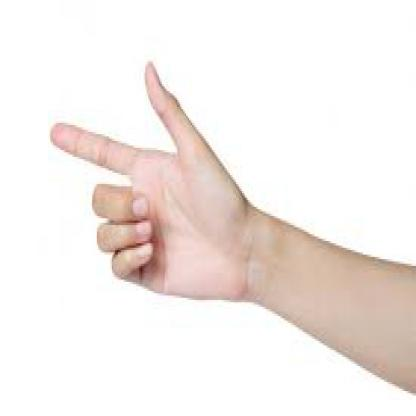Right: (50, 59, 259, 291)
